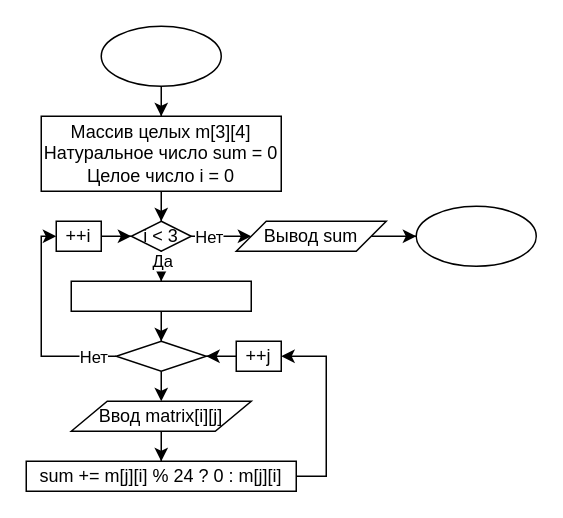
Some shapes in this 563 by 518 pixel diagram are drawn without their labels. Here are the shapes that lost their labels. From the top down, the box of each, then its label:
(100, 25, 221, 86): Начало
(415, 205, 536, 266): Конец
(70, 280, 251, 311): Целое число j = 0
(115, 340, 206, 371): j < 4
